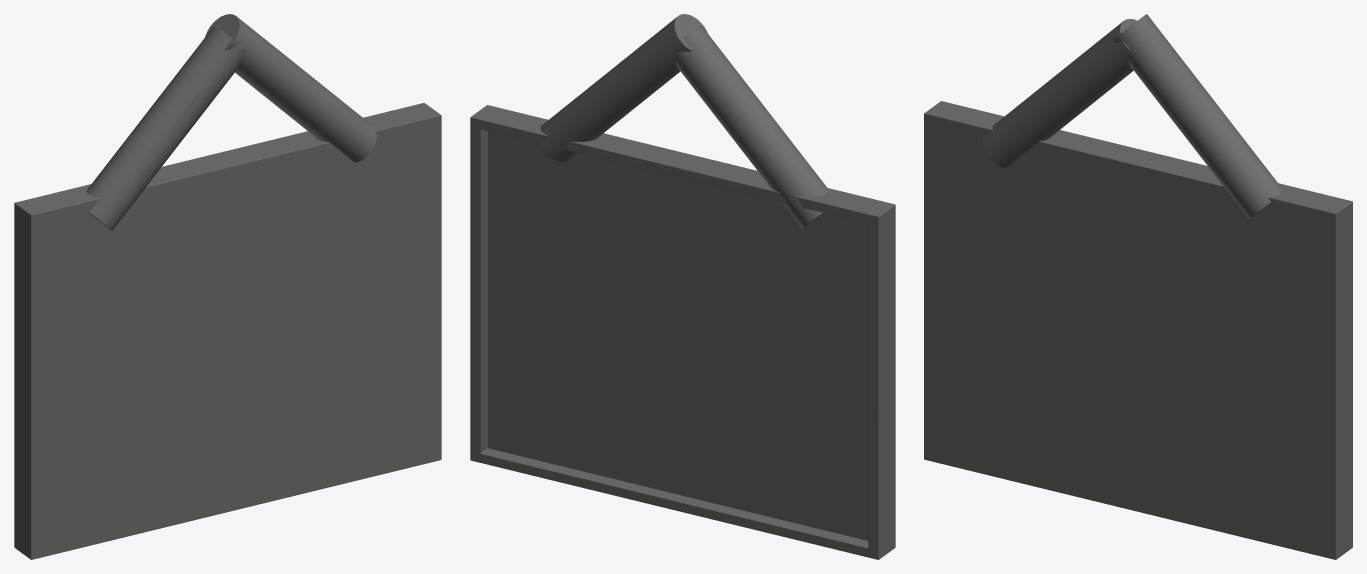
The picture shows the model from 3 angles, left to right: view 1: azimuth 30°, elevation 25°; view 2: azimuth 150°, elevation 25°; view 3: azimuth 330°, elevation 25°; orthographic projection.
Visible parts, largest first — view 1: 303465_23_06_21_03_11_54_1; view 2: 303465_23_06_21_03_11_54_1; view 3: 303465_23_06_21_03_11_54_1.
Boxes of the visible parts, <box> form: 303465_23_06_21_03_11_54_1: <box>14,14,441,559</box>; 303465_23_06_21_03_11_54_1: <box>470,14,895,559</box>; 303465_23_06_21_03_11_54_1: <box>924,14,1352,559</box>.
Size of the model in its own units: 0.4219 by 0.479 by 0.0409.
Materials: 1 (1 with a texture image).
